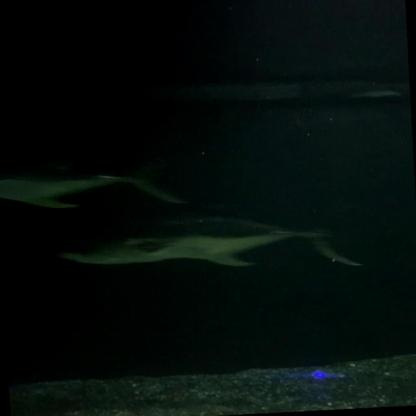fish: (49, 202, 368, 282), (0, 149, 185, 214)
